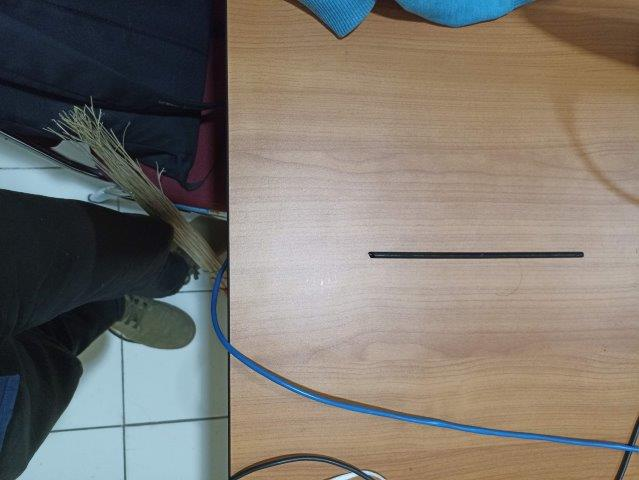sedotan: (368, 252, 585, 258)
